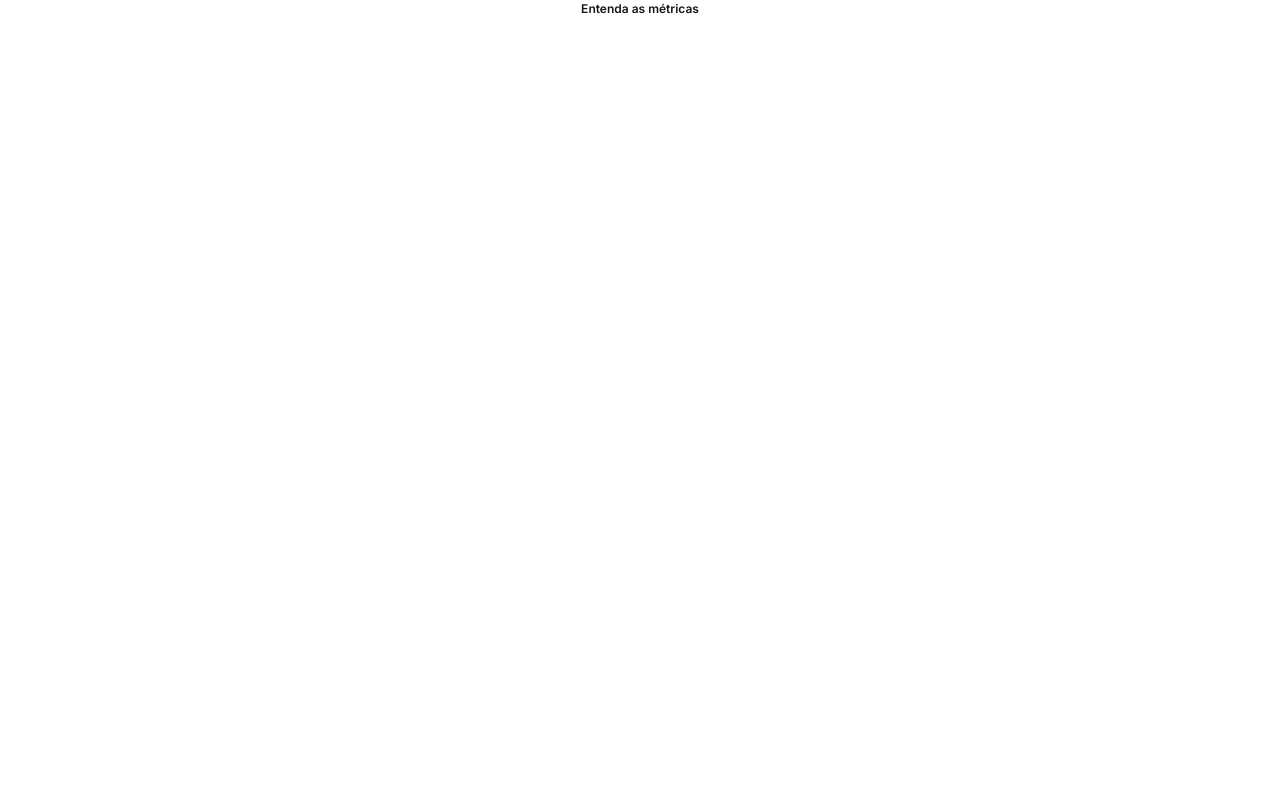
Test: Glossario › abre pelo link e mostra as definições
Click the button "Entenda as métricas" at (640, 9), box x1=0 y1=0 x2=1279 y2=18
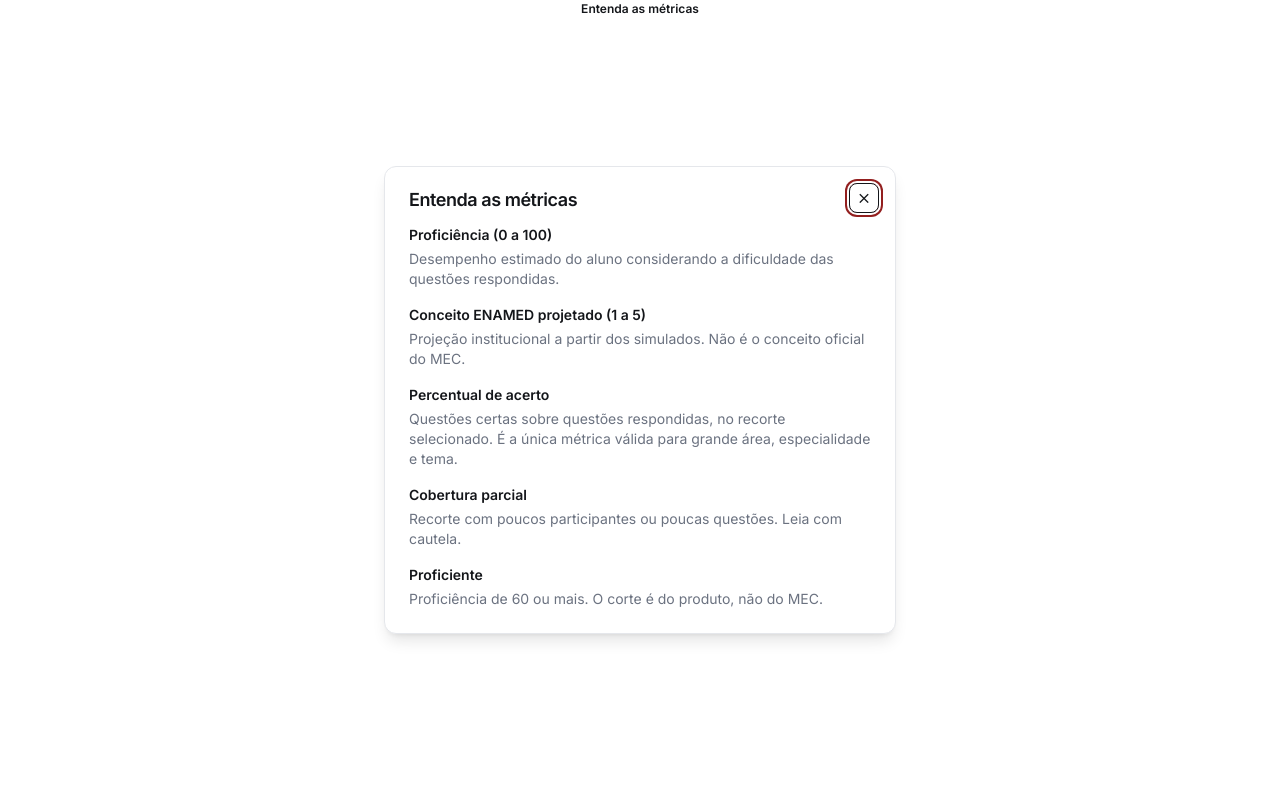
Now the dialog is shown, box x1=384 y1=166 x2=896 y2=634
Now the heading "Entenda as métricas" is shown, box x1=409 y1=189 x2=577 y2=210
Now the text "Proficiência (0 a 100)" is shown, box x1=409 y1=226 x2=552 y2=243
